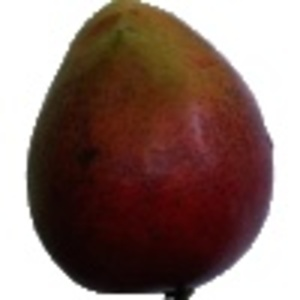manga: (27, 1, 276, 300)
